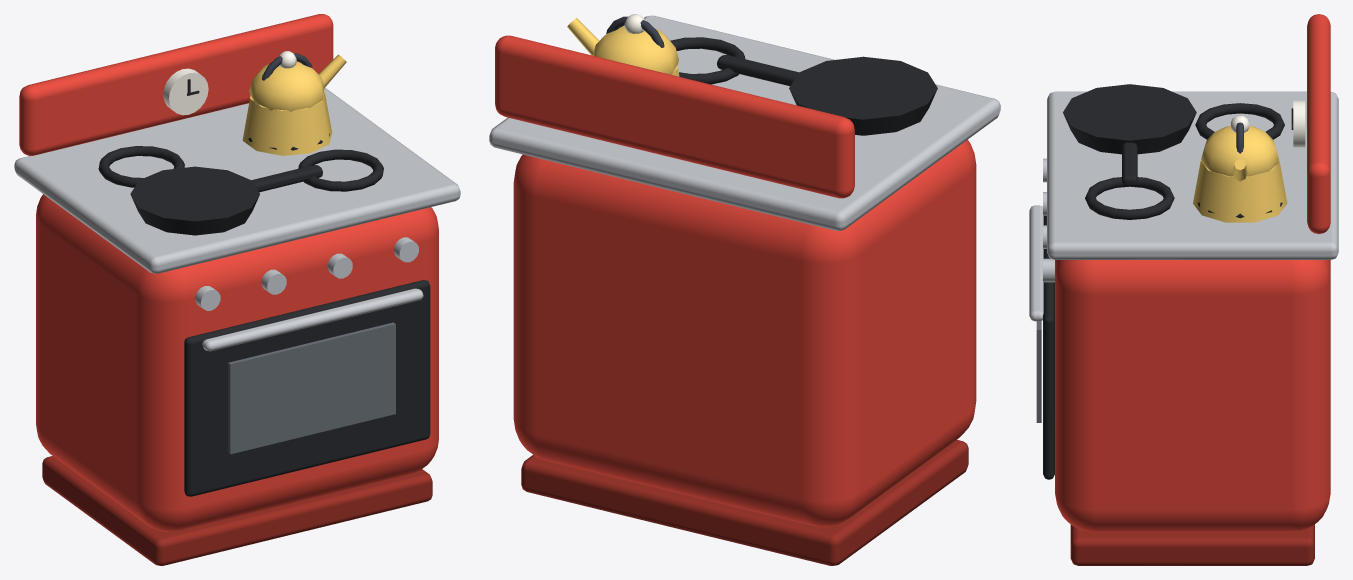
The model's file is stove-red.glb.
3 renders of one model, left to right at view 1: azimuth 30°, elevation 25°; view 2: azimuth 150°, elevation 25°; view 3: azimuth 270°, elevation 25°, orthographic. The views are drawn at different scales.
Bounding box in the file's own units: 0.94 × 1.17 × 0.785.
